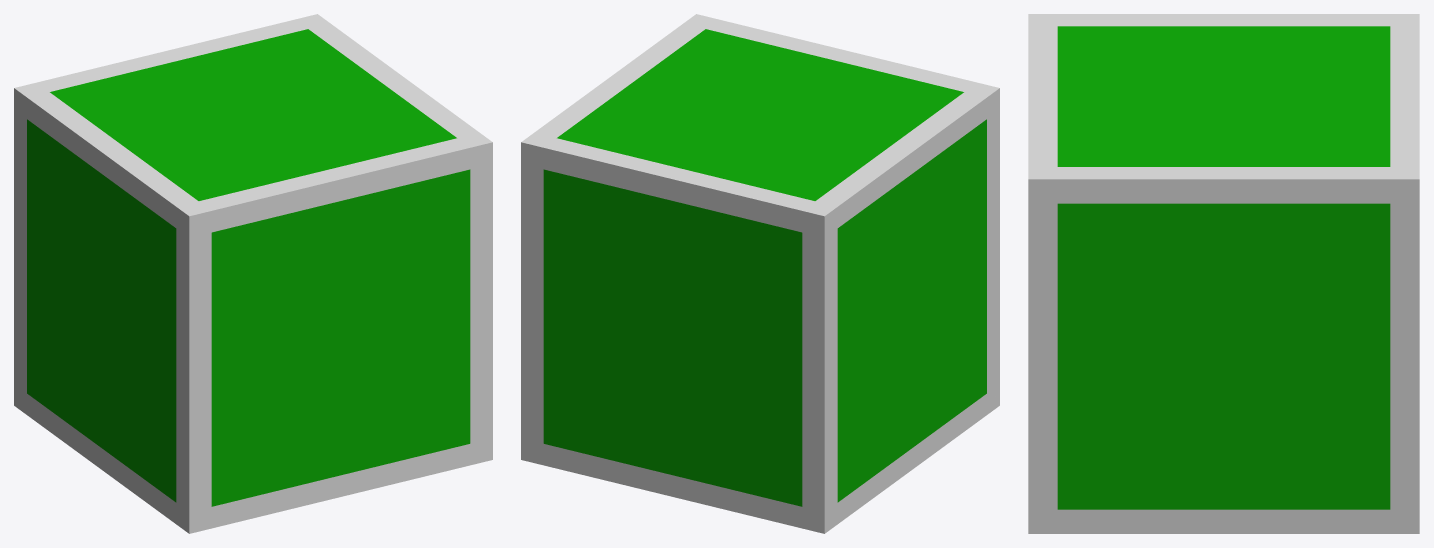
The model's file is GreenCube.dae.
3 views of the same model, side by side, from view 1: azimuth 30°, elevation 25°; view 2: azimuth 150°, elevation 25°; view 3: azimuth 270°, elevation 25° (orthographic). The views are drawn at different scales.
Parts seen in each view (by area): view 1: Cube; view 2: Cube; view 3: Cube.
Part boxes in pixels (bbox=[...]): Cube: bbox=[14, 14, 492, 533]; Cube: bbox=[521, 14, 999, 533]; Cube: bbox=[1028, 14, 1419, 533].
Size of the model in its own units: 0.055 by 0.055 by 0.055.
